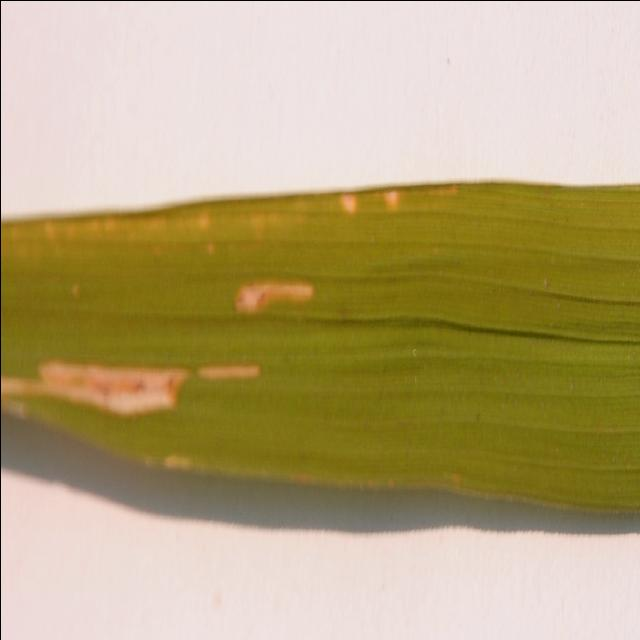Unhealthy: (0, 358, 188, 419), (234, 280, 313, 314), (244, 195, 306, 234), (196, 364, 258, 380), (189, 203, 210, 238), (161, 450, 191, 468), (383, 186, 400, 208), (339, 193, 354, 215), (70, 281, 78, 298), (206, 242, 214, 259)
